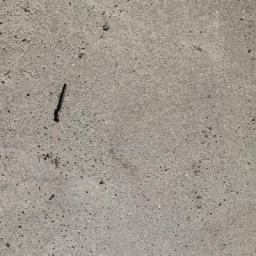FOD: (53, 83, 74, 126)
